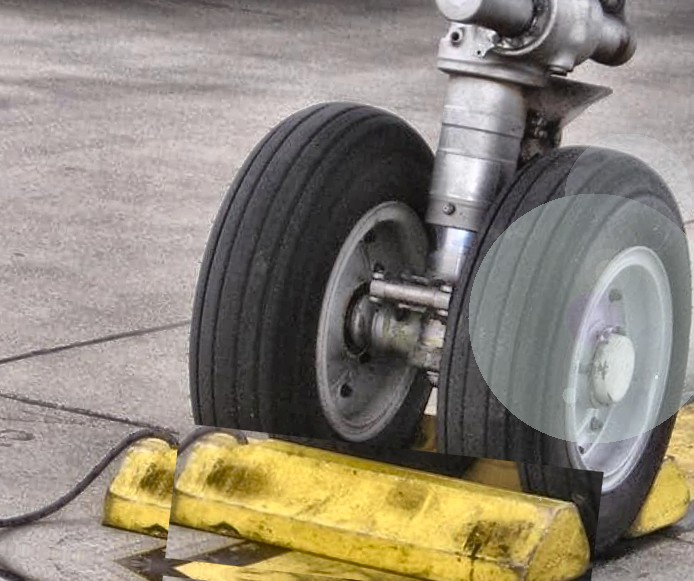chock: (165, 423, 604, 581), (101, 430, 523, 581)
wheel: (427, 133, 694, 581), (173, 86, 458, 485)
